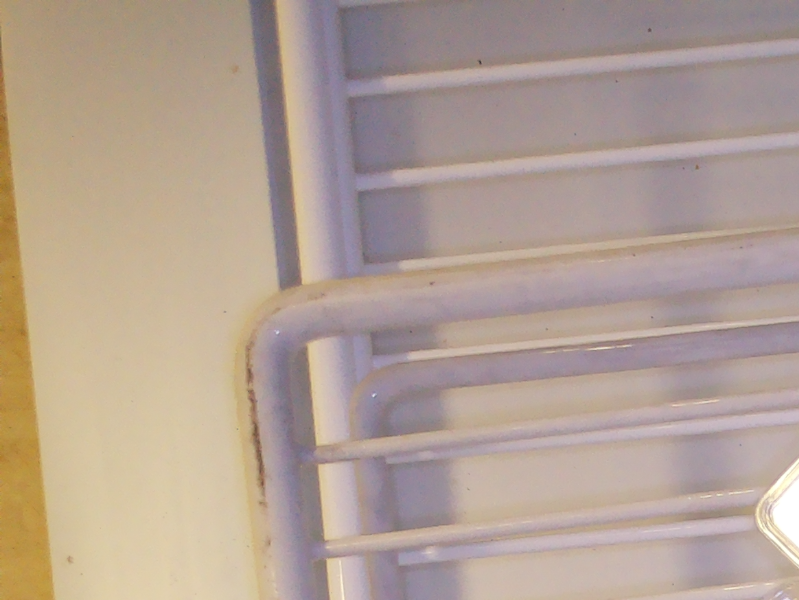plate: (752, 455, 799, 573)
